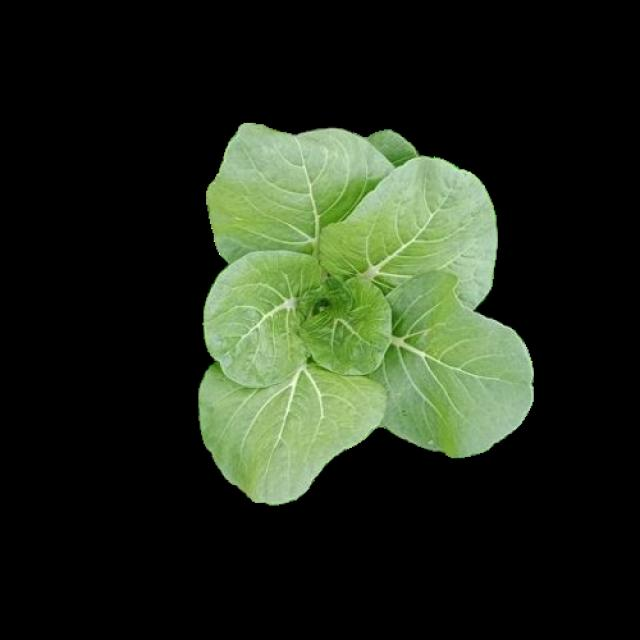healthy: (198, 126, 532, 500)
mature: (201, 128, 534, 502)
